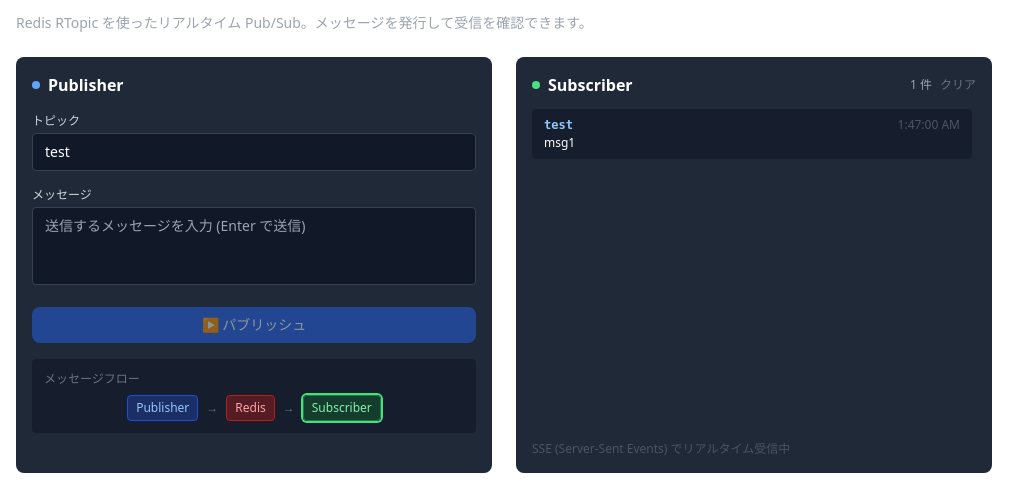
Test: PubSubPage › clears messages when クリア is clicked
Expected: the text "1 件" is shown, [910,77,932,93]
What coordinates should you click on to do the following:
click the button "クリア"
I would click on:
 (958, 85)
Its box is [940,77,976,93].
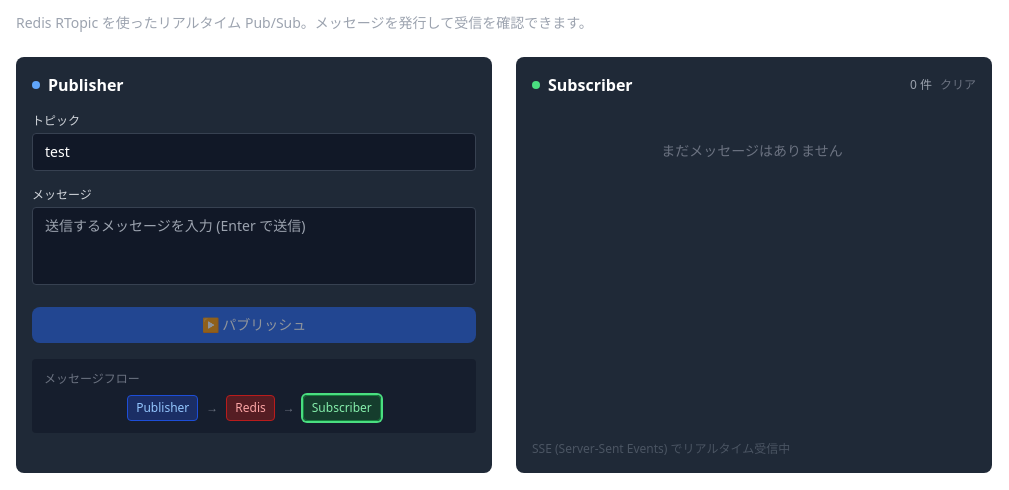
Now the text "まだメッセージはありません" is shown, box [661,141,843,160]
